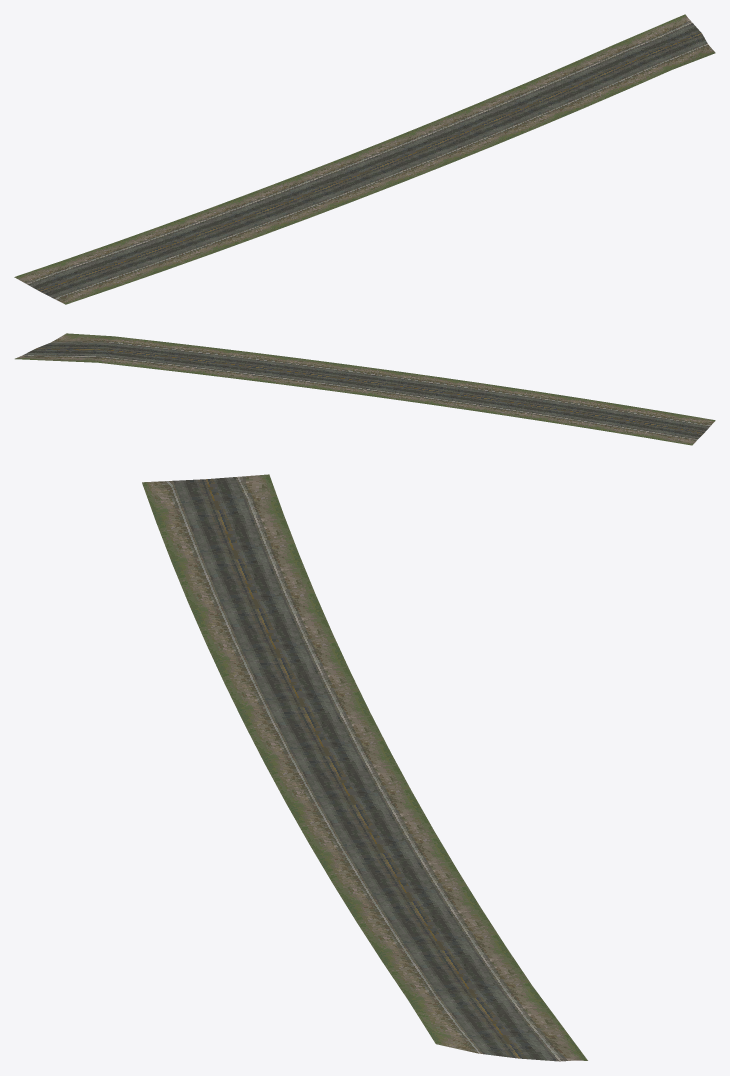
File: lodcunte_roads60.obj
The picture shows the model from 3 angles, top to bottom: view 1: azimuth 30°, elevation 25°; view 2: azimuth 150°, elevation 25°; view 3: azimuth 270°, elevation 25°; orthographic projection. The views are drawn at different scales.
Parts seen in each view (by area): view 1: LODcunte_roads60; view 2: LODcunte_roads60; view 3: LODcunte_roads60.
Part boxes in pixels (left/top/right/bottom): LODcunte_roads60: left=14, top=14, right=715, bottom=304; LODcunte_roads60: left=15, top=333, right=715, bottom=445; LODcunte_roads60: left=142, top=474, right=587, bottom=1061.
Bounding box in the file's own units: 214 × 1.5 × 69.24.
Materials: 1 (1 with a texture image).
